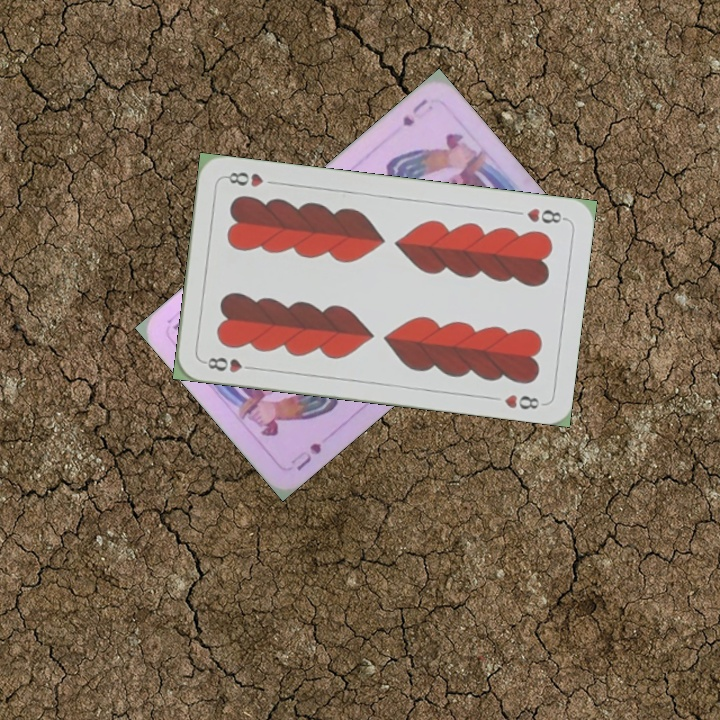H8: (199, 353, 258, 375), (522, 204, 569, 226)
SU: (286, 438, 324, 474), (398, 95, 431, 129)
